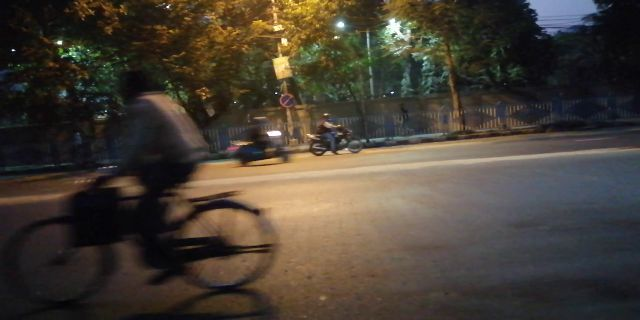Cycle: (16, 66, 280, 314)
Motorbike: (225, 116, 292, 166), (306, 110, 363, 157)
